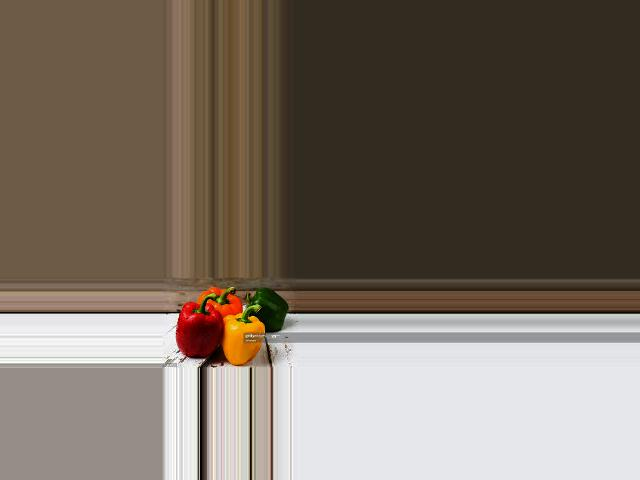bell_pepper: (197, 286, 244, 319)
